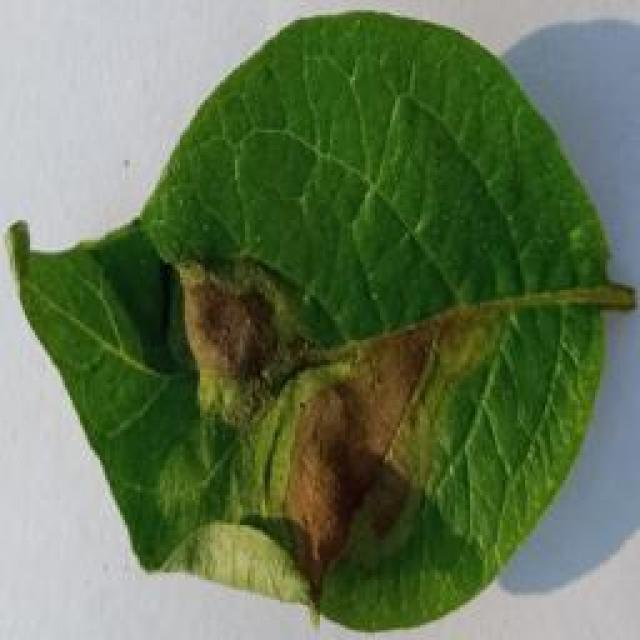Potato_Late_Blight: (7, 11, 627, 630)
